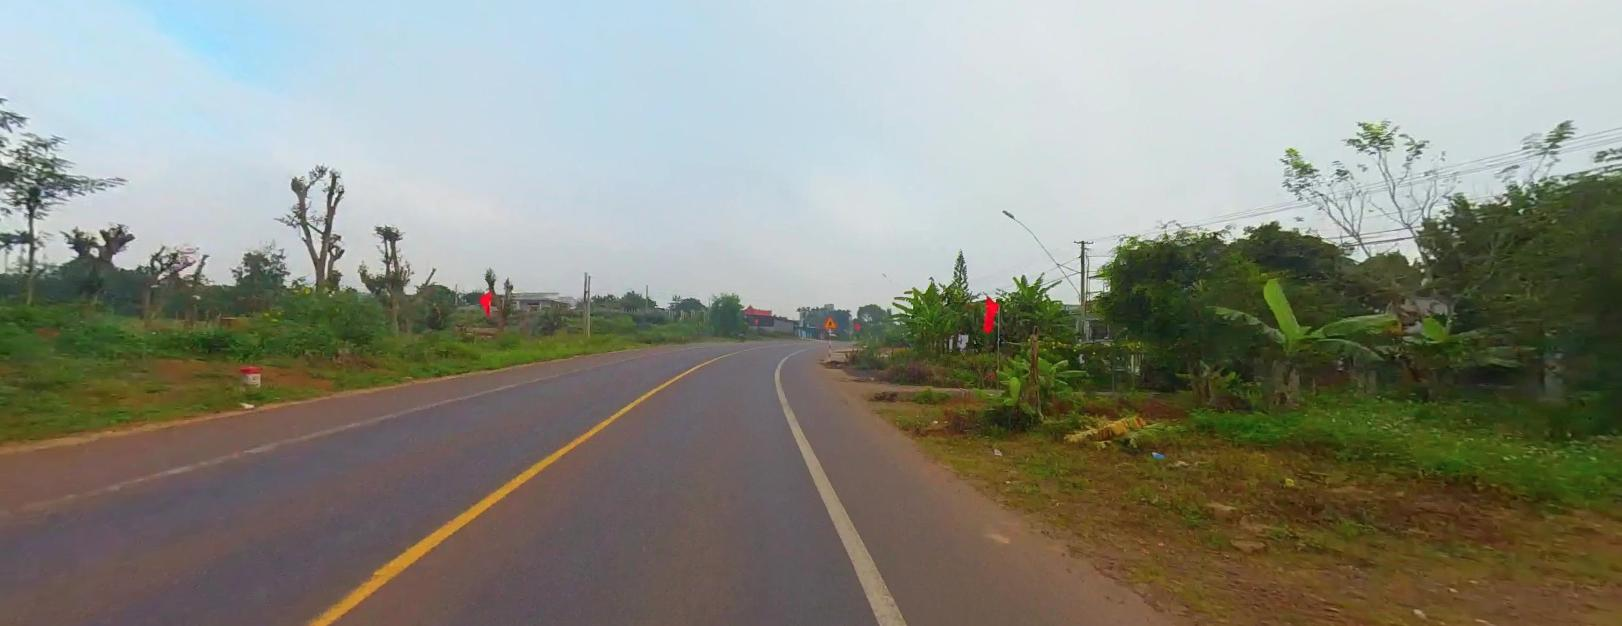Nguy hiem: (824, 315, 837, 328)
